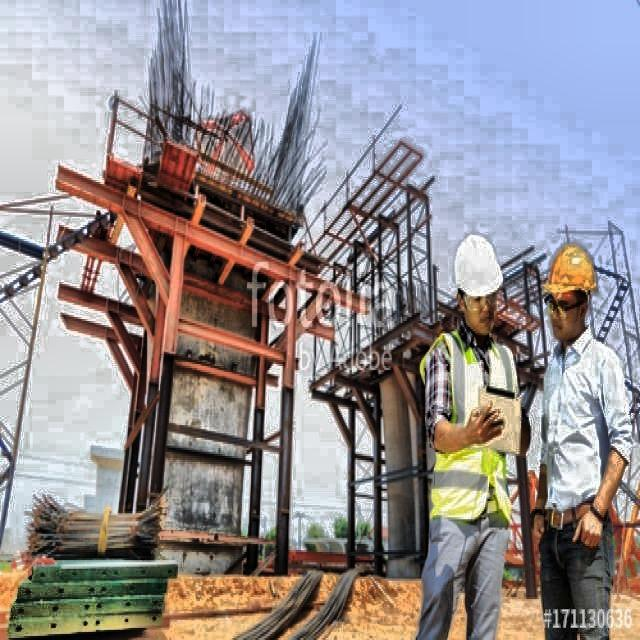person: (421, 225, 531, 640), (538, 233, 628, 640)
